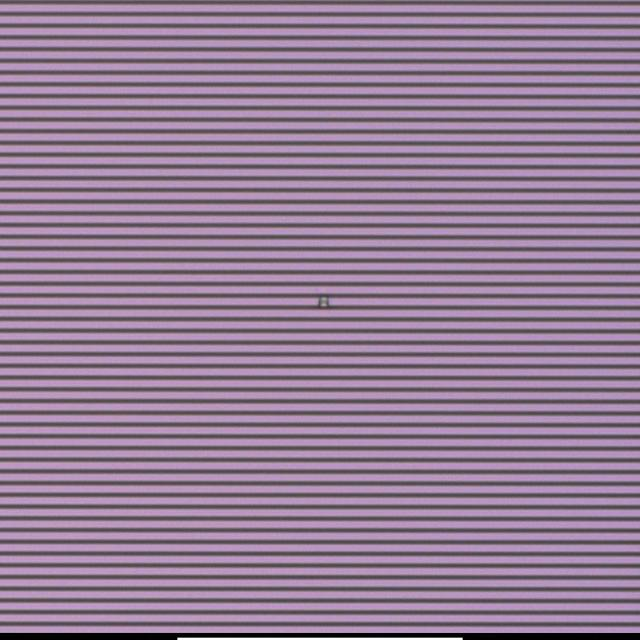03_intrusion: (310, 292, 337, 310)
